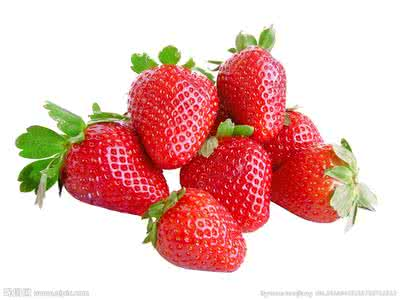strawberry: (32, 112, 168, 211), (127, 55, 215, 168), (186, 126, 275, 226), (146, 190, 254, 270), (269, 145, 369, 221), (217, 36, 286, 137), (272, 101, 325, 161)
